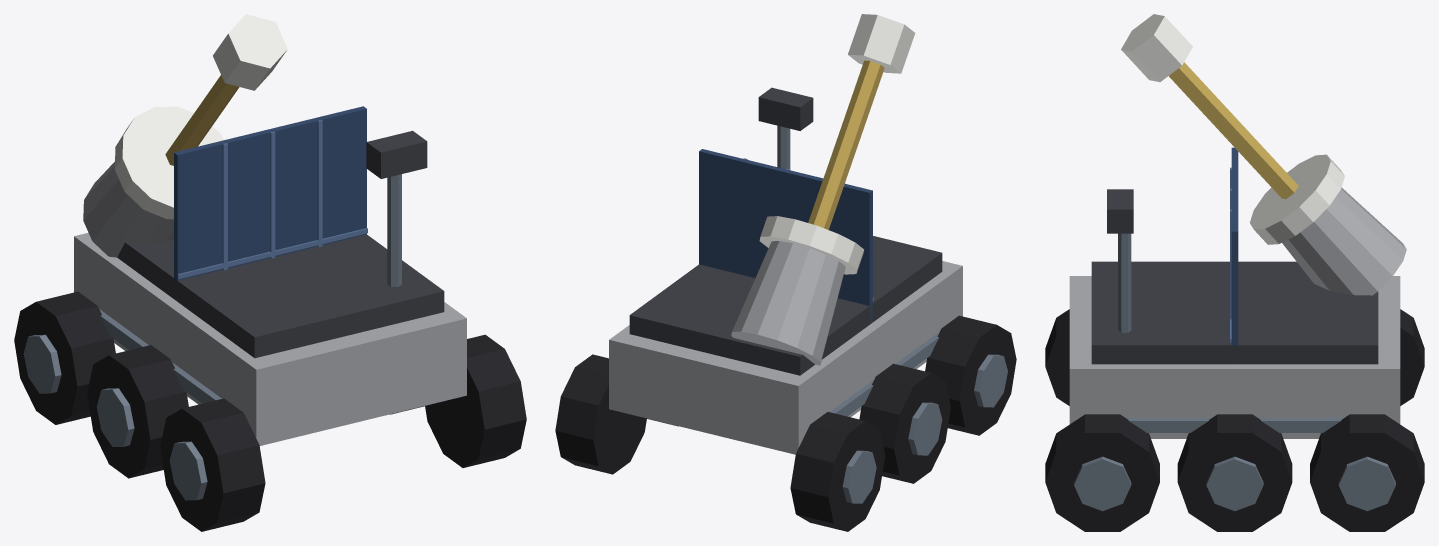
File: Pay_Rover.fbx
3 renders of one model, left to right at view 1: azimuth 30°, elevation 25°; view 2: azimuth 150°, elevation 25°; view 3: azimuth 270°, elevation 25°, orthographic. The views are drawn at different scales.
Visible parts, largest first — view 1: Pay_Rover; view 2: Pay_Rover; view 3: Pay_Rover.
Part boxes in pixels (bbox=[...]): Pay_Rover: bbox=[14, 14, 526, 531]; Pay_Rover: bbox=[555, 14, 1016, 531]; Pay_Rover: bbox=[1045, 14, 1424, 531].
Bounding box in the file's own units: 1.5 × 2.1 × 1.72.
Materials: 1 (1 with a texture image).
